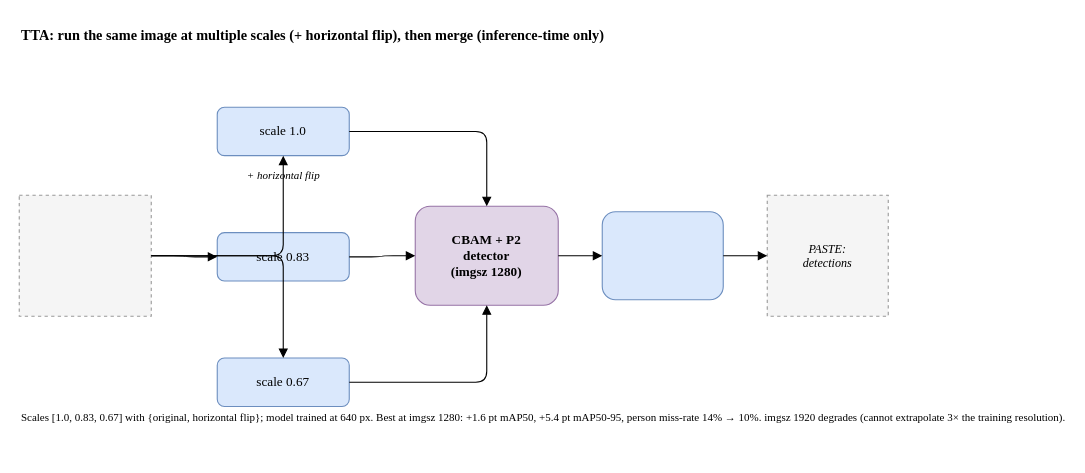
Some shapes in this 1085 by 473 pixel diagram are drawn without their labels. Here are the shapes that lost their labels. From the top down, the centre of each, then its label:
point 84,255: PASTE: input image
point 662,255: Merge (NMS)
